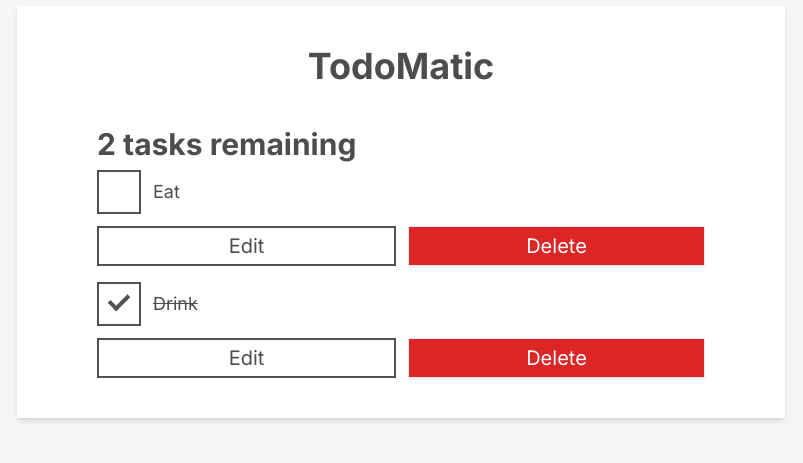
Scenario: Todo Integration test › edits and save a task
Step 1. Click the button "Edit" below "Drink" → {"x": 246, "y": 358}, box [97, 338, 396, 378]
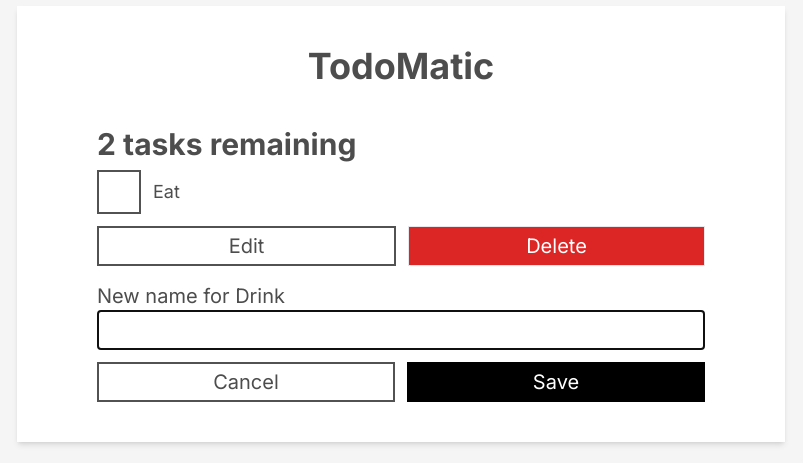
Step 2. Type "edited Task" into the field → {"x": 401, "y": 330}, box [97, 310, 705, 350]
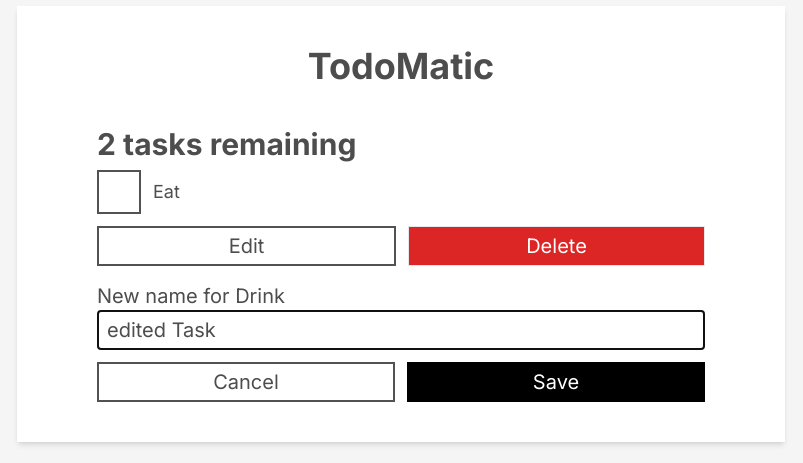
Step 3. Click the button "Save" → {"x": 556, "y": 382}, box [407, 362, 705, 402]
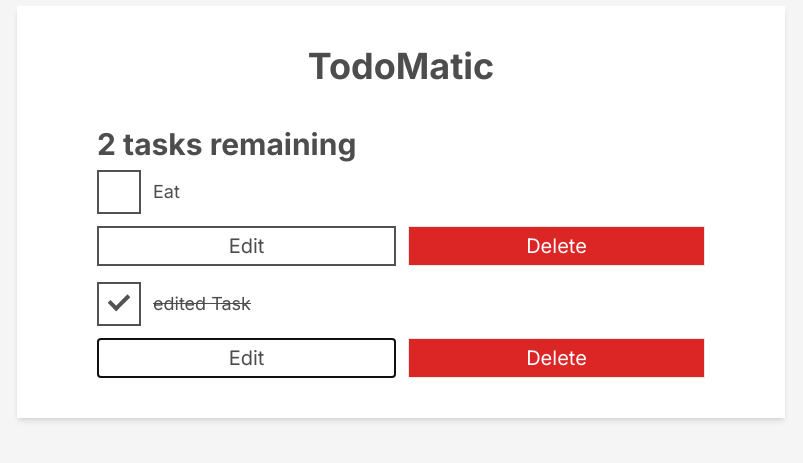
Result: the number of checkboxes is 2 at [97, 170, 141, 214]; [97, 282, 141, 326]
